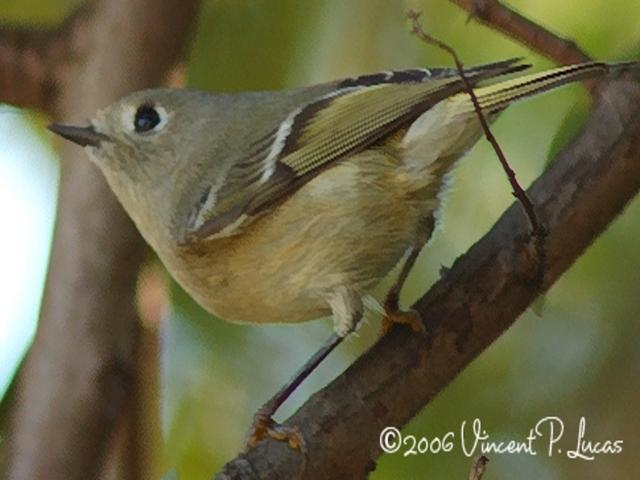bird: (11, 59, 587, 428)
